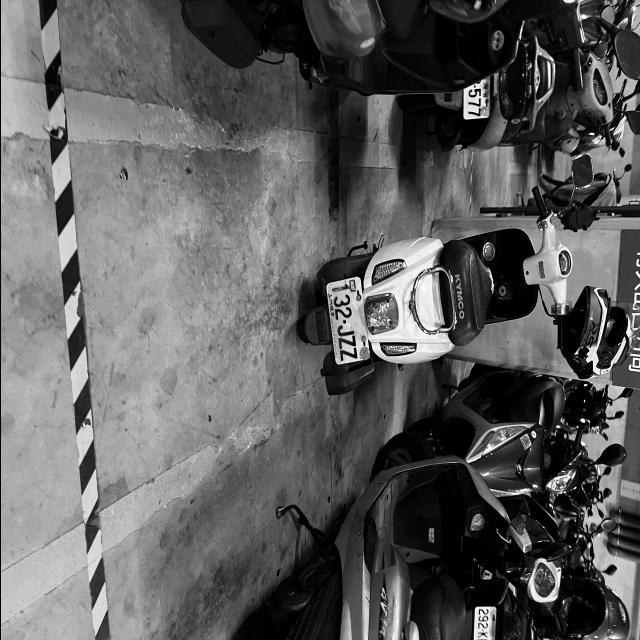-: (341, 319, 346, 325), (480, 628, 484, 632), (472, 85, 474, 89)
1: (330, 282, 350, 294)
2: (333, 306, 352, 320), (476, 623, 488, 629), (478, 609, 488, 615)
3: (331, 294, 351, 310)
5: (468, 88, 480, 98)
7: (466, 98, 481, 108), (466, 108, 481, 116)
9: (476, 616, 488, 622)
J: (336, 324, 355, 338)
K: (477, 632, 488, 638)
Z: (338, 347, 358, 363), (337, 335, 356, 351)
plate: (325, 277, 369, 365)
